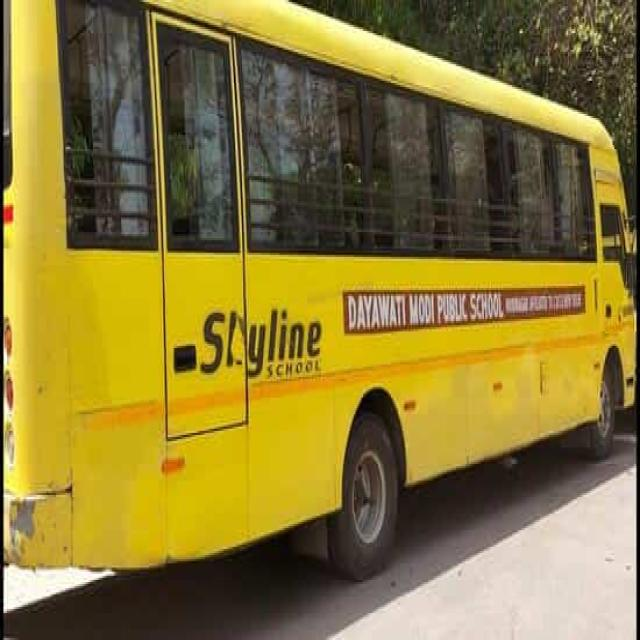bus: (1, 0, 635, 577)
